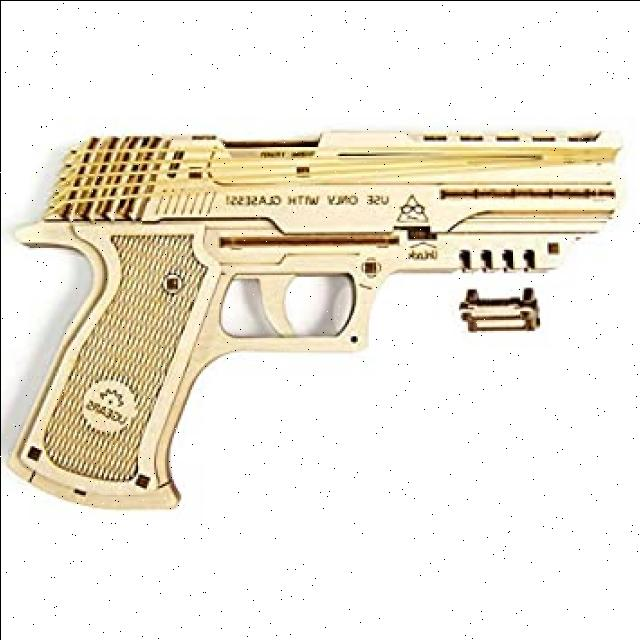Handgun: (0, 103, 631, 485)
